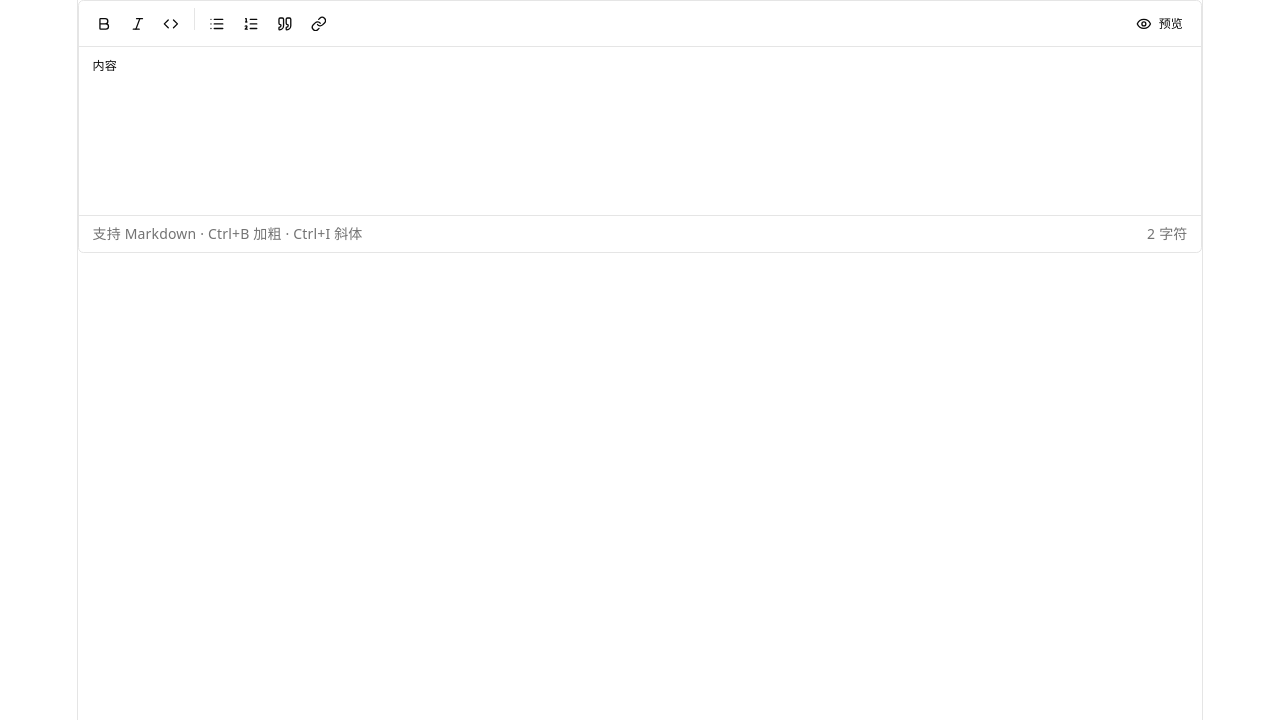
Test case: RichTextEditor › switches back to edit mode
Click the button "预览". click: [1160, 24]
box: [1127,10,1192,37]
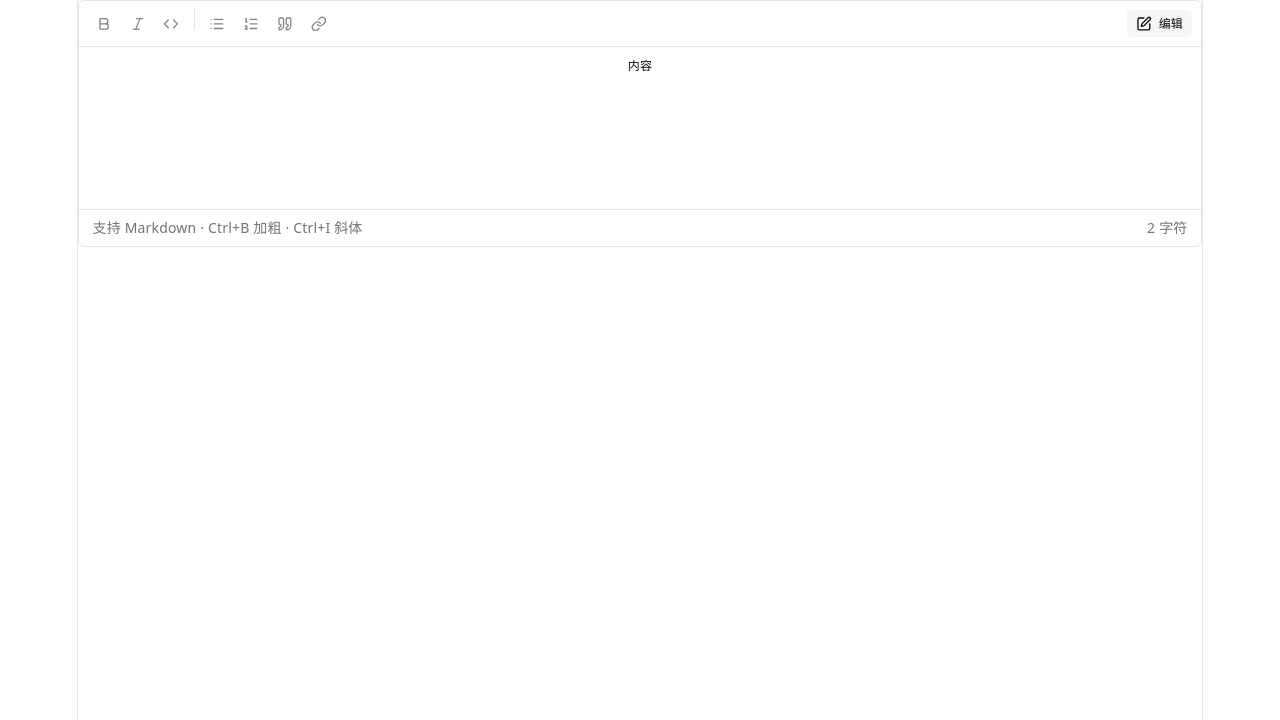
Click the button "编辑". click: [1160, 24]
box: [1127,10,1192,37]
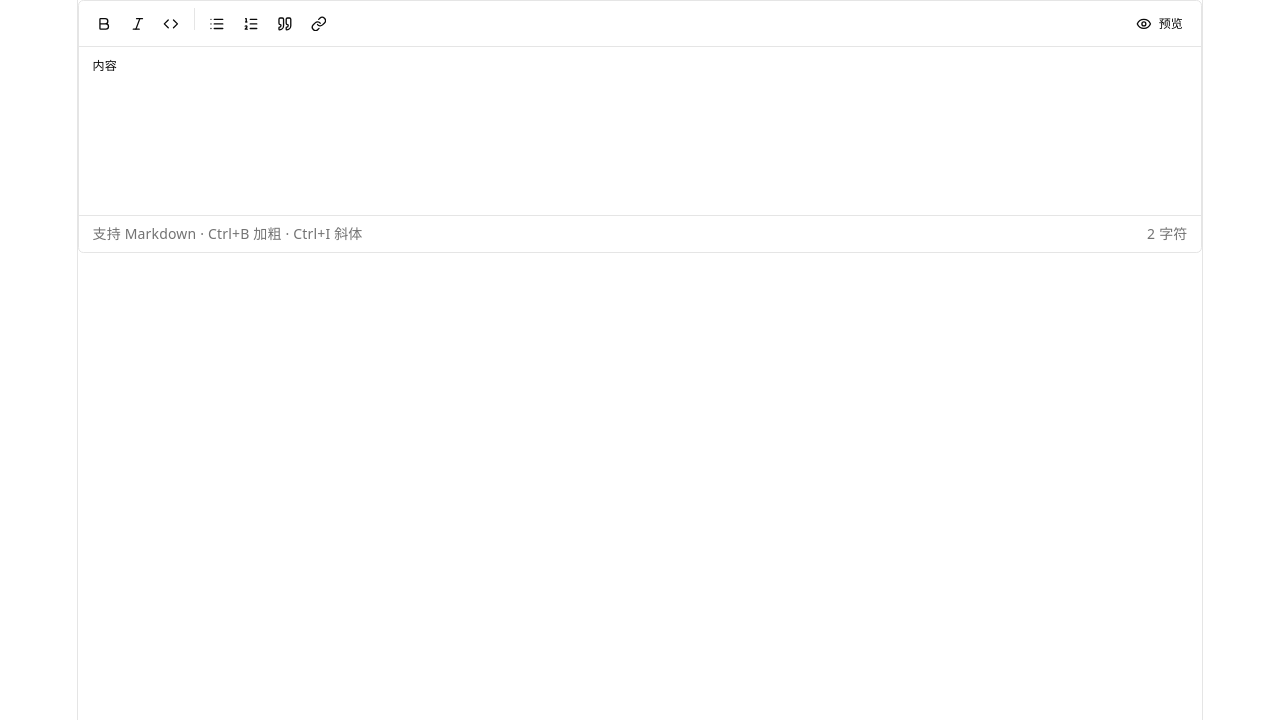
Expected: the text box named "Markdown" is shown, [79,47,1201,209]
